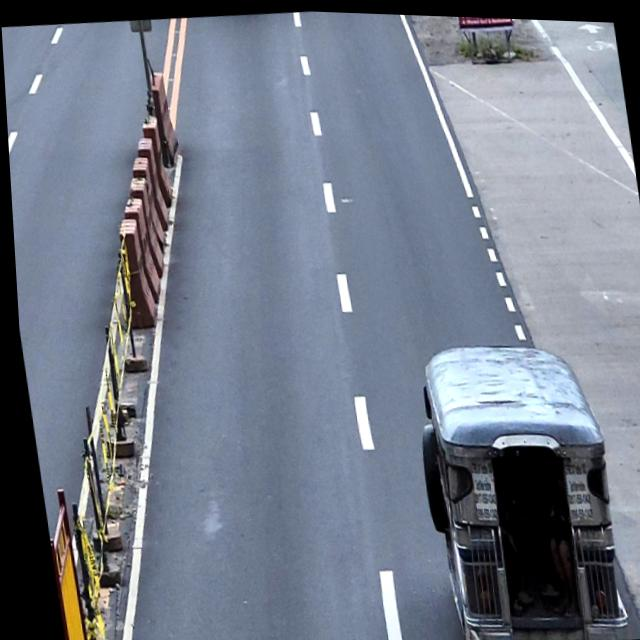Jeep: (401, 327, 627, 640)
